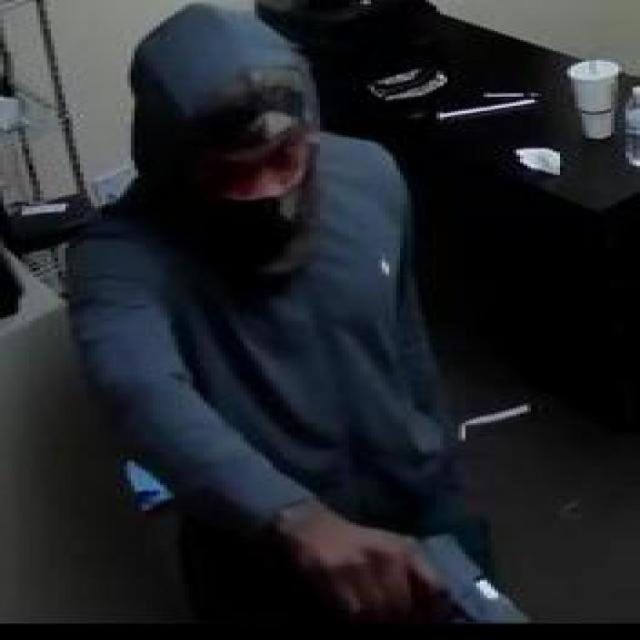pistol: (301, 522, 535, 622)
